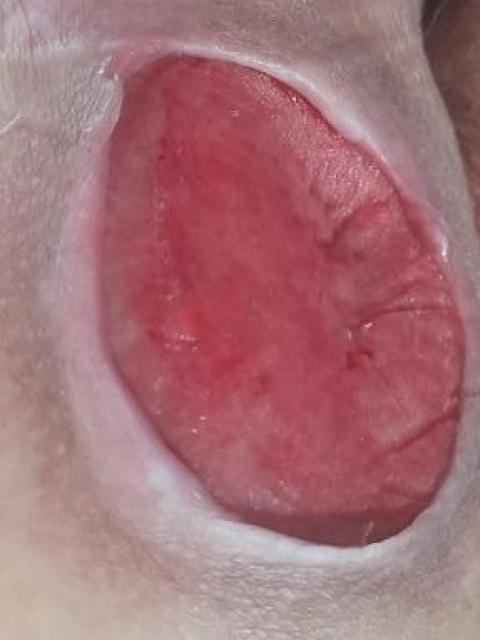wound: (87, 48, 469, 551)
